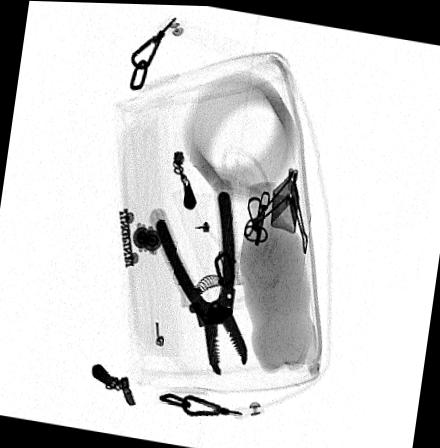Pliers: (153, 189, 248, 376)
